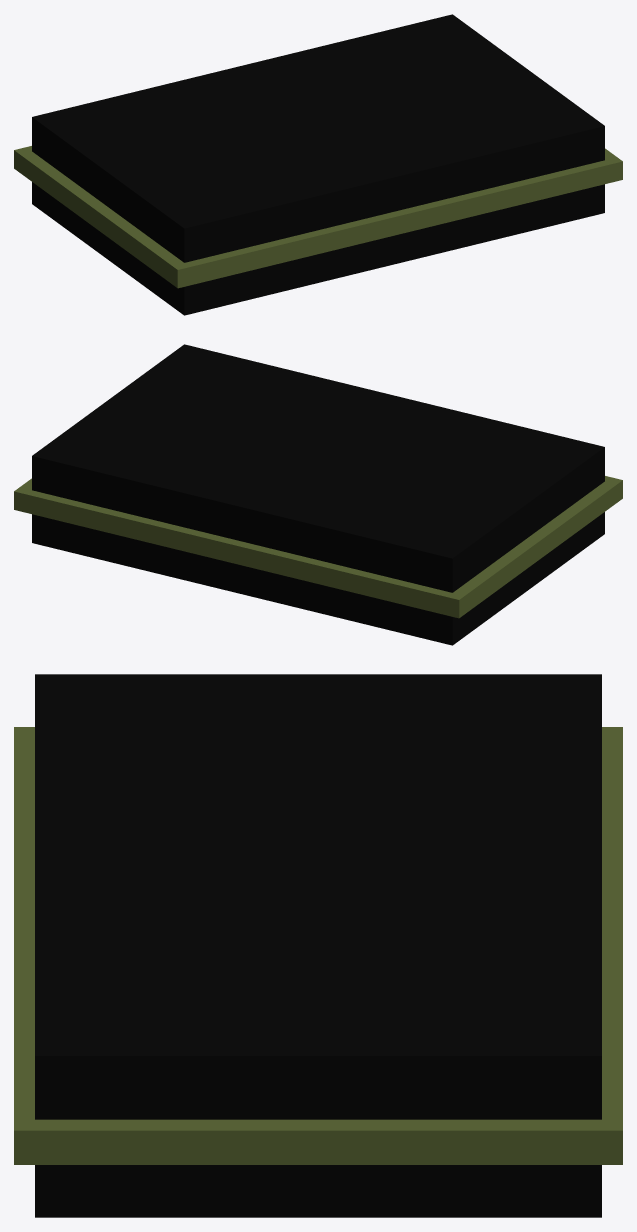
Rendered from prop_arthur_cole_cassette.obj.
The picture shows the model from 3 angles, top to bottom: view 1: azimuth 30°, elevation 25°; view 2: azimuth 150°, elevation 25°; view 3: azimuth 270°, elevation 25°; orthographic projection. The views are drawn at different scales.
Visible parts, largest first — view 1: prop_arthur_cole_cassette_DA_0000, prop_arthur_cole_cassette_DA_0004; view 2: prop_arthur_cole_cassette_DA_0000, prop_arthur_cole_cassette_DA_0004; view 3: prop_arthur_cole_cassette_DA_0000, prop_arthur_cole_cassette_DA_0004.
Boxes of the visible parts, box(x1,y1,x2,y2) form: prop_arthur_cole_cassette_DA_0000: box(32, 14, 604, 315); prop_arthur_cole_cassette_DA_0004: box(14, 146, 622, 288); prop_arthur_cole_cassette_DA_0000: box(32, 344, 604, 645); prop_arthur_cole_cassette_DA_0004: box(14, 476, 622, 618); prop_arthur_cole_cassette_DA_0000: box(35, 674, 601, 1217); prop_arthur_cole_cassette_DA_0004: box(14, 727, 622, 1164).
Size of the model in its own units: 0.455 by 0.085 by 0.29.
